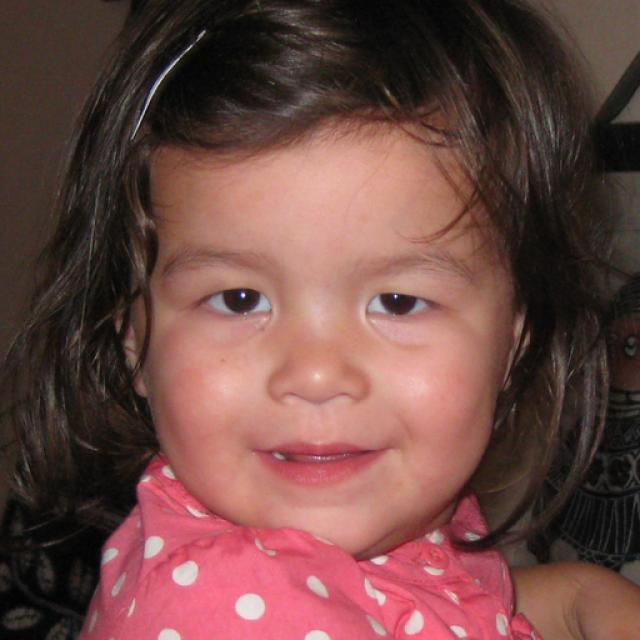happy: (146, 115, 509, 546)
